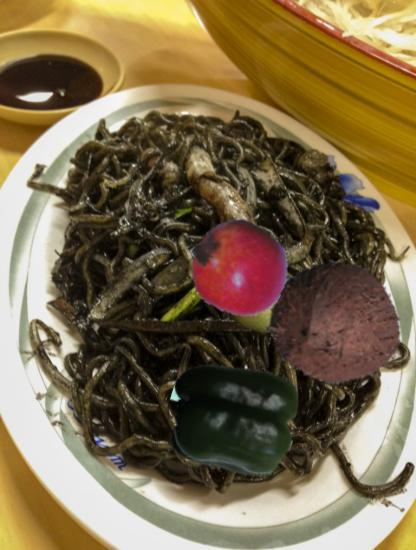Cocos: (263, 251, 406, 394)
Pear: (223, 272, 291, 340)
Pepper: (167, 352, 298, 483)
Pomegranate: (190, 218, 290, 318)
